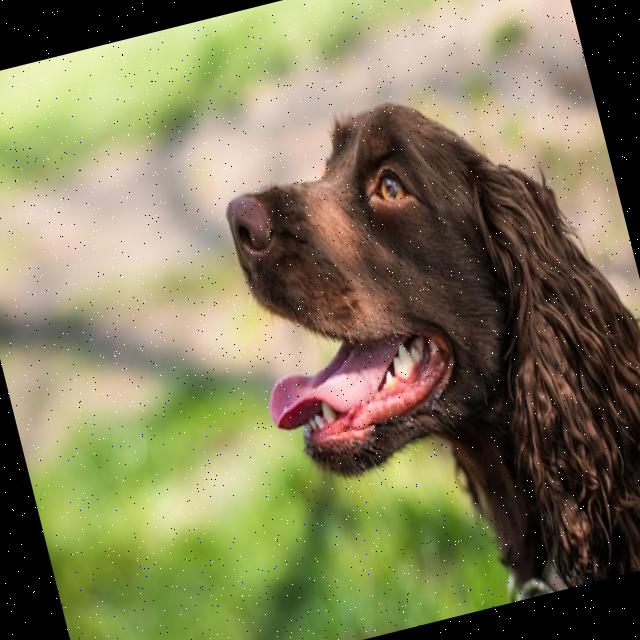Dog: (207, 55, 640, 640)
